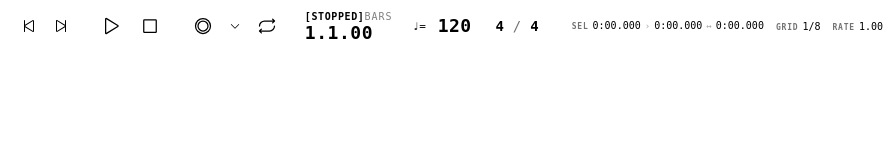
TransportBar time signature readout › clicking denominator opens inline input
Step 1. Click the button named "Beat unit" → (534, 26), box x1=522 y1=17 x2=547 y2=35
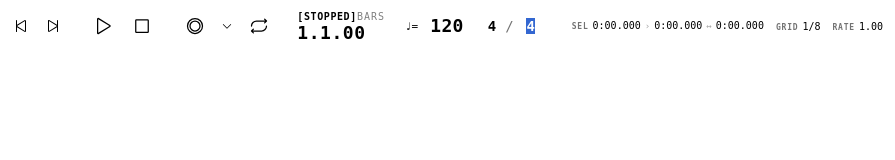
Check: the field named "Time signature denominator" is shown, box x1=515 y1=16 x2=547 y2=36
